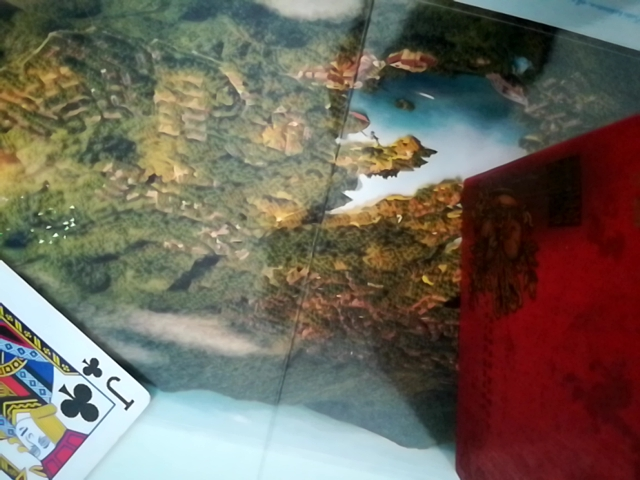mh j: (0, 233, 153, 480)
